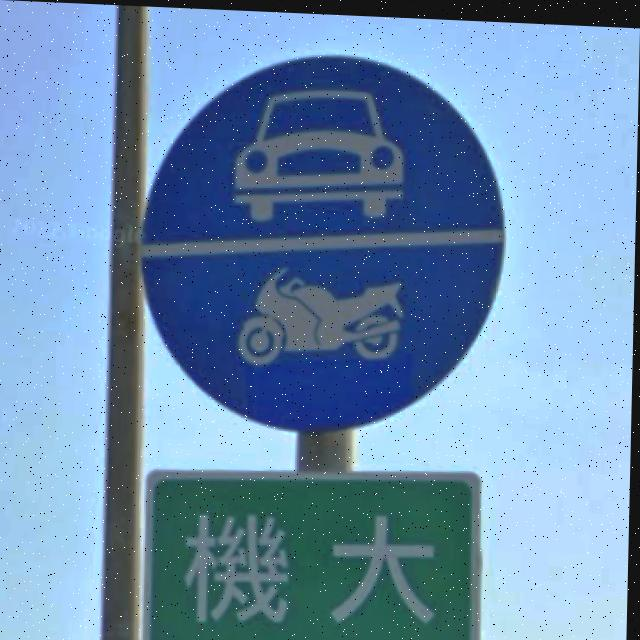carmotorcycle: (145, 55, 503, 428)
